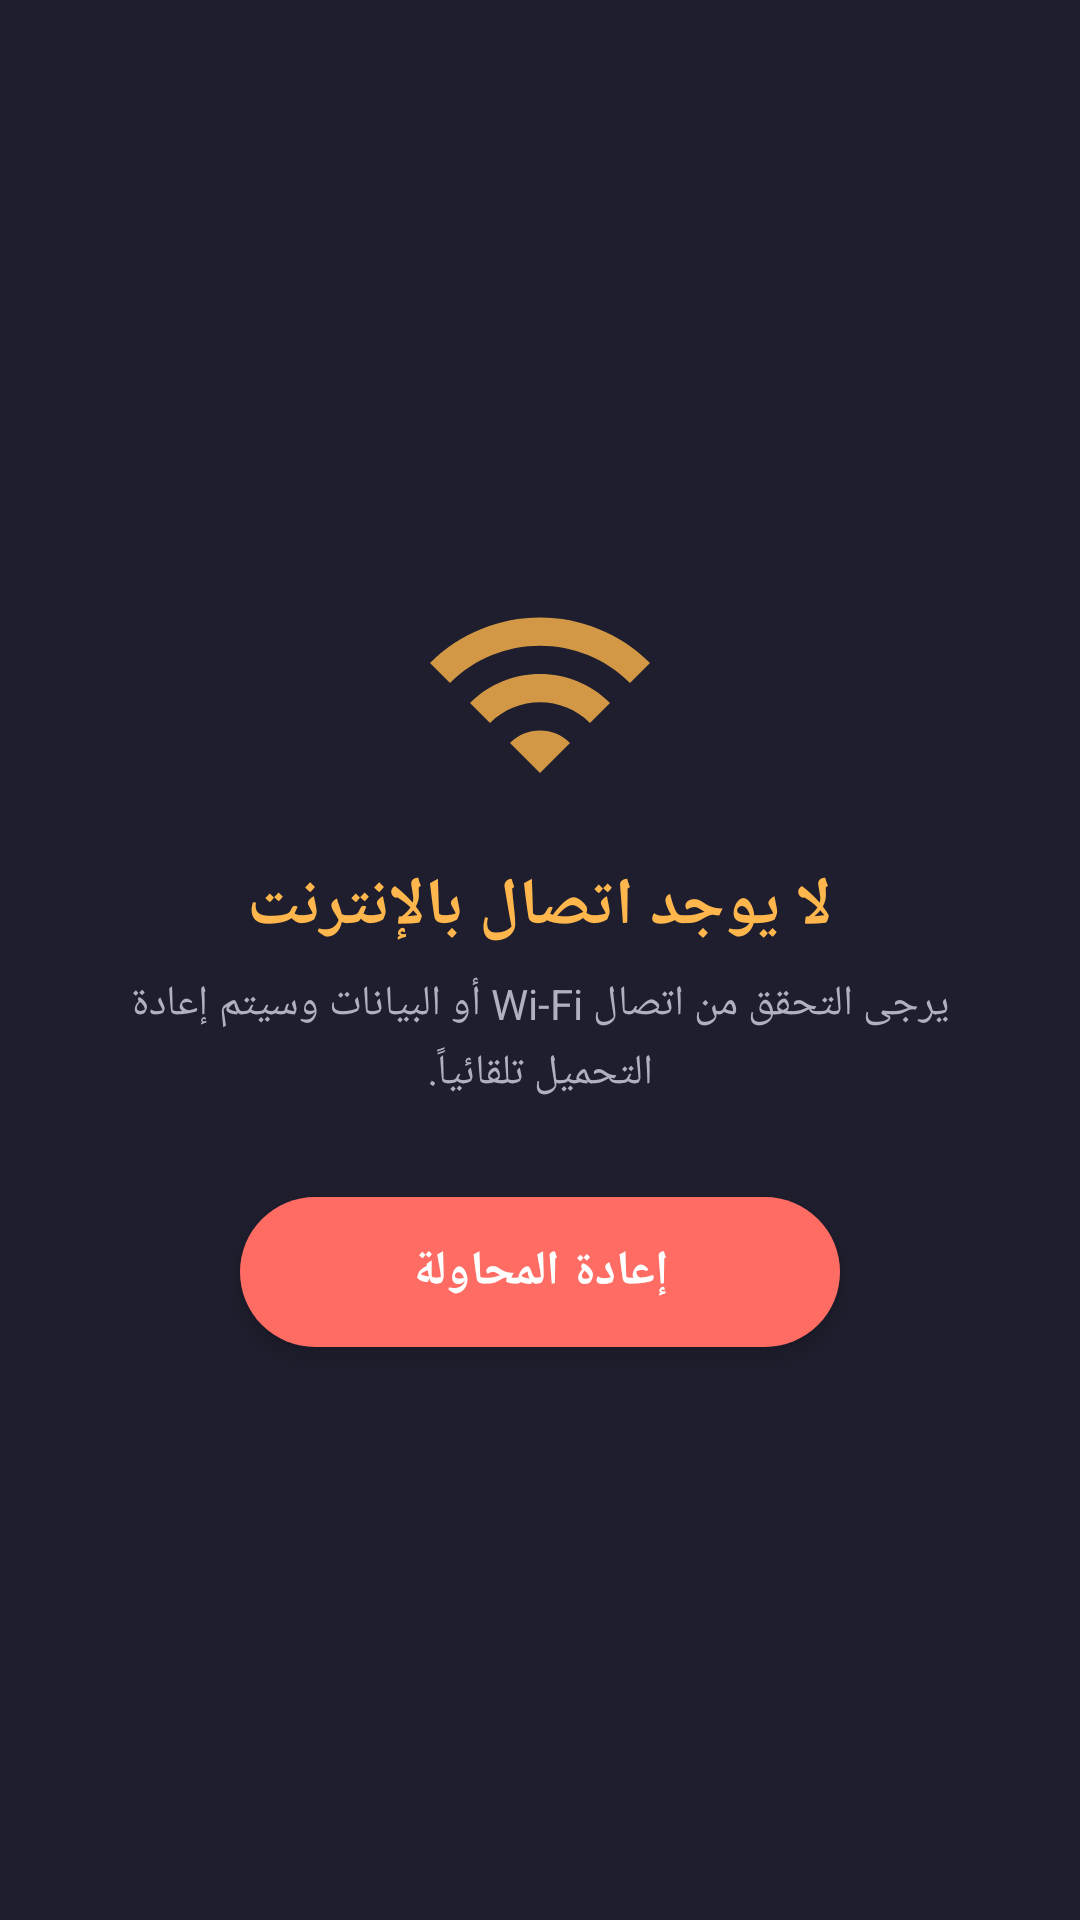

Where to tap for icons on this 1080px x 1920px app screen, as point (x, y):
no internet: point (540, 695)
